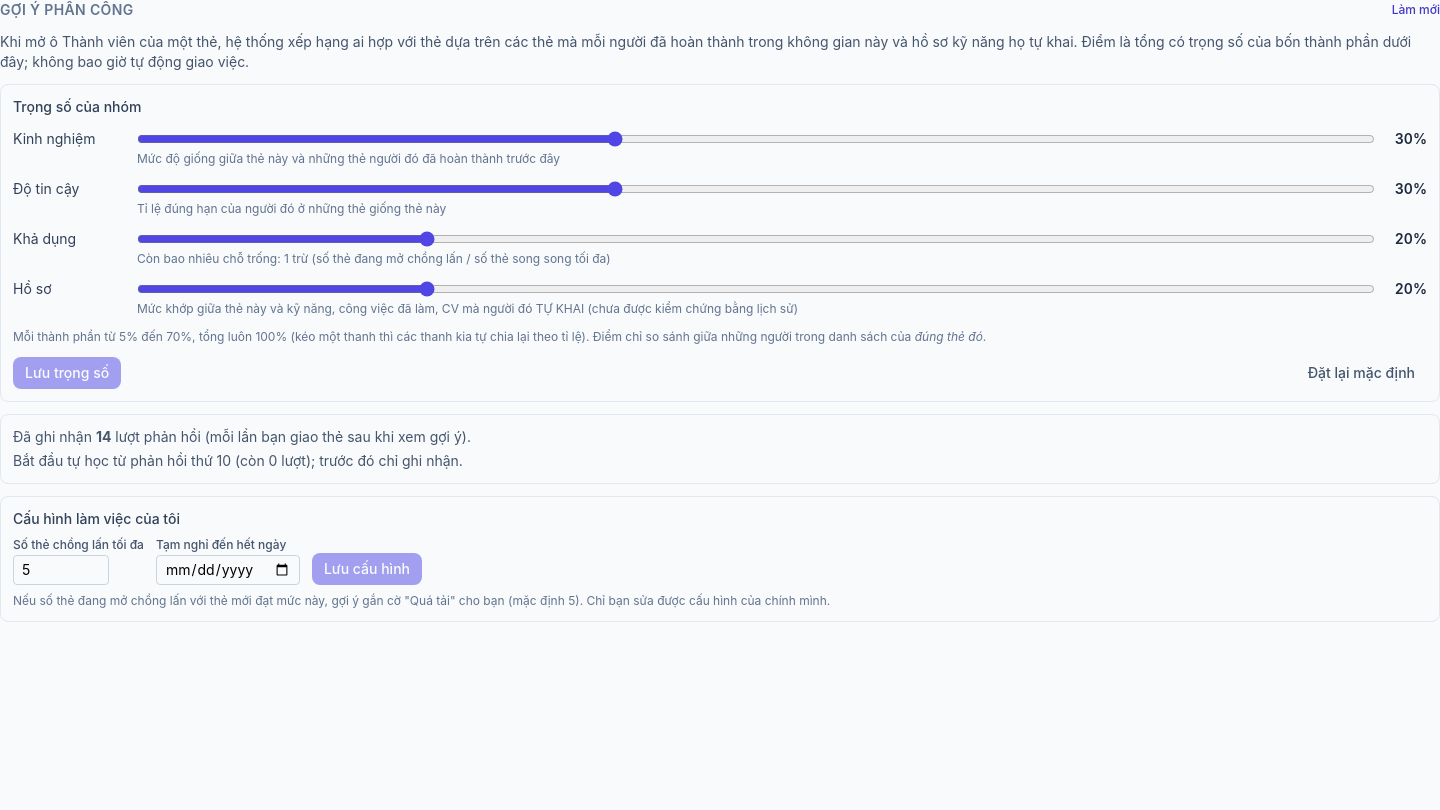
Test case: AssignWeightsPanel - đặt lại mặc định › bấm -> hộp xác nhận (chưa gọi API); "Đặt lại" -> resetAssignWeights, hiện giá trị mới; "Huỷ" thì không gọi
Expected: the text "Trọng số của nhóm" is shown, top-left (13, 98), bottom-right (141, 115)
Click the button "Đặt lại mặc định" at (1361, 373), box top-left (1296, 357), bottom-right (1427, 389)
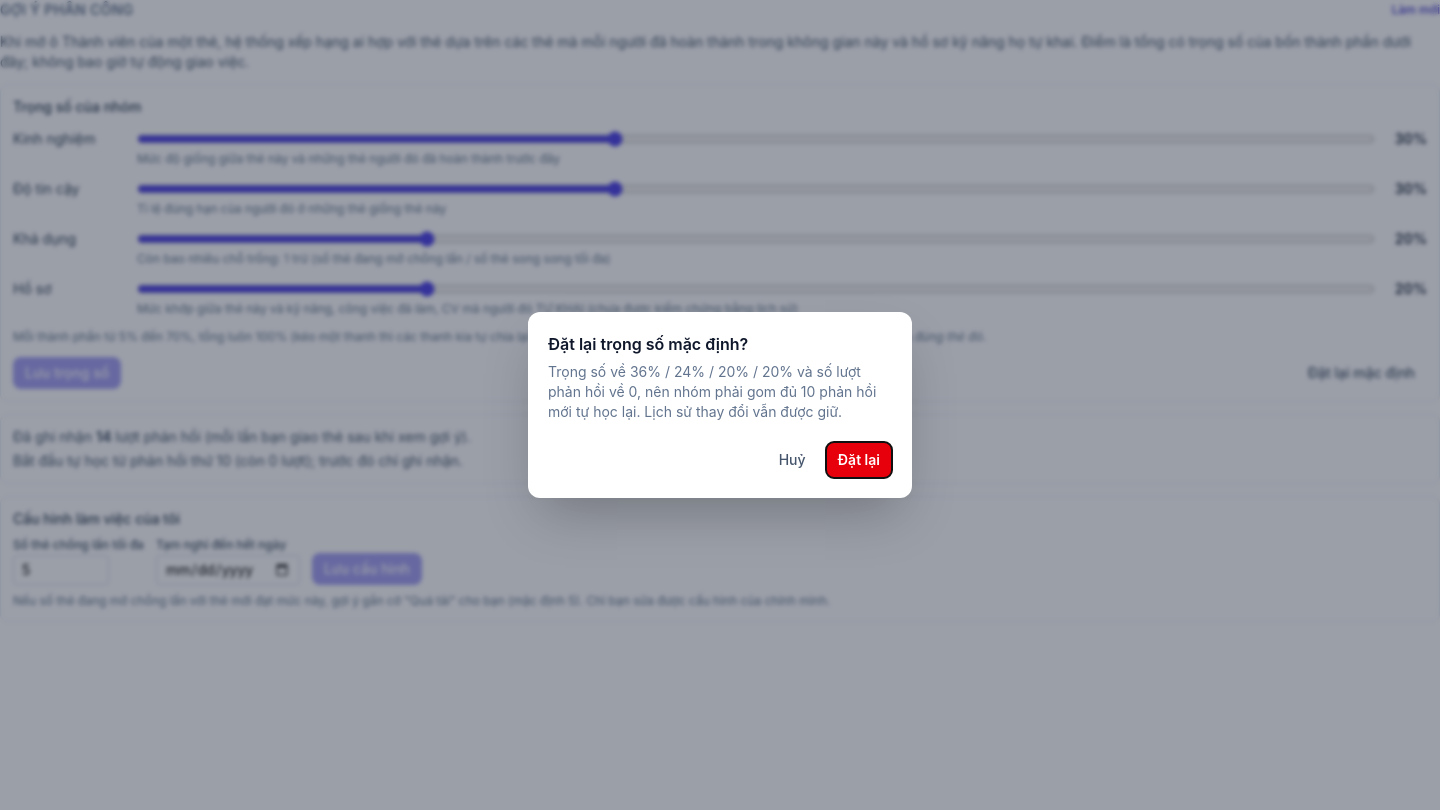
Expected: the dialog shows "Trọng số về 36% / 24% / 20% / 20% và số lượt phản hồi về 0", top-left (548, 363), bottom-right (876, 420)
Expected: the dialog shows "gom đủ 10 phản hồi", top-left (548, 363), bottom-right (876, 420)
Click the button "Huỷ" at (792, 460), box top-left (767, 442), bottom-right (818, 478)
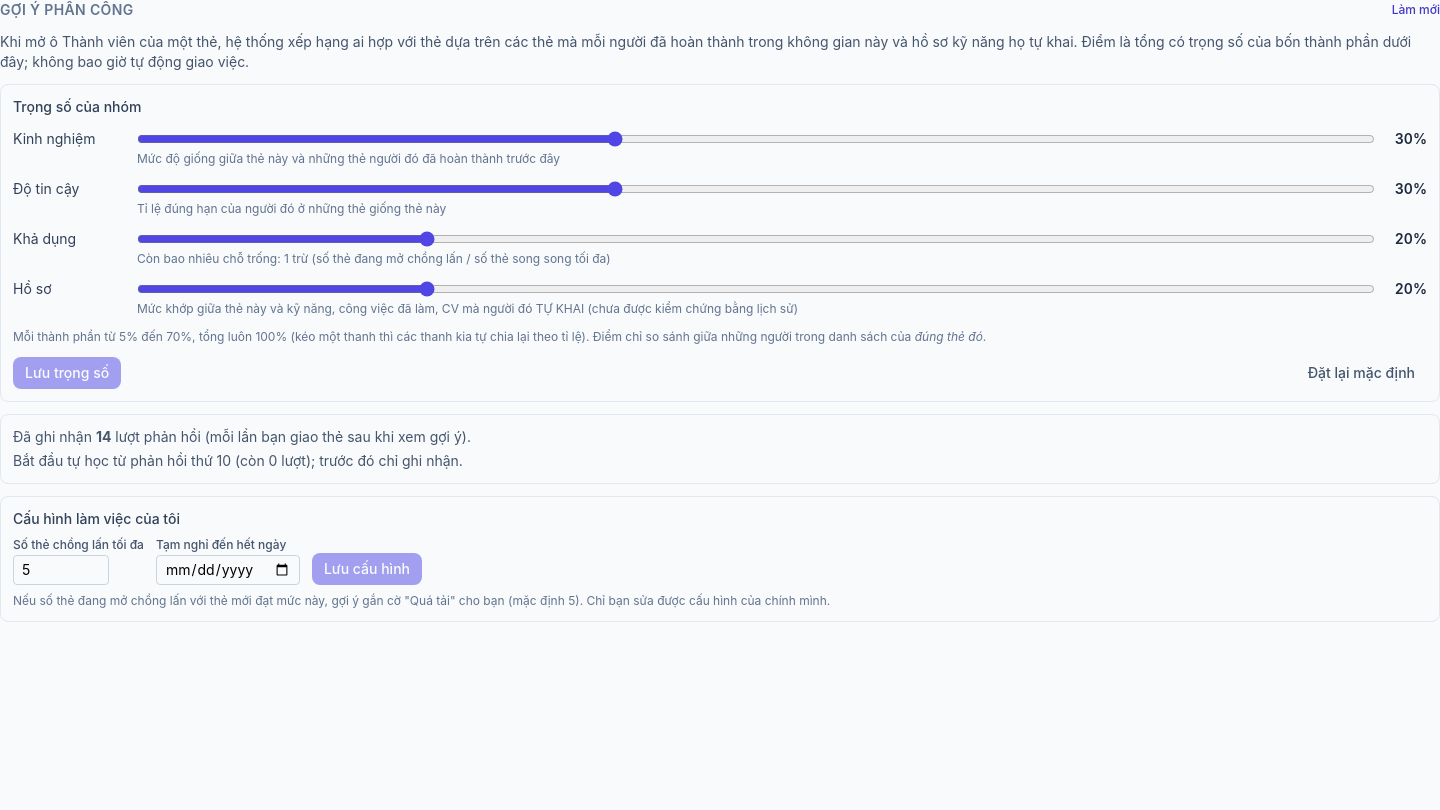
Expected: the dialog is gone
Click the button "Đặt lại mặc định" at (1361, 373), box top-left (1296, 357), bottom-right (1427, 389)
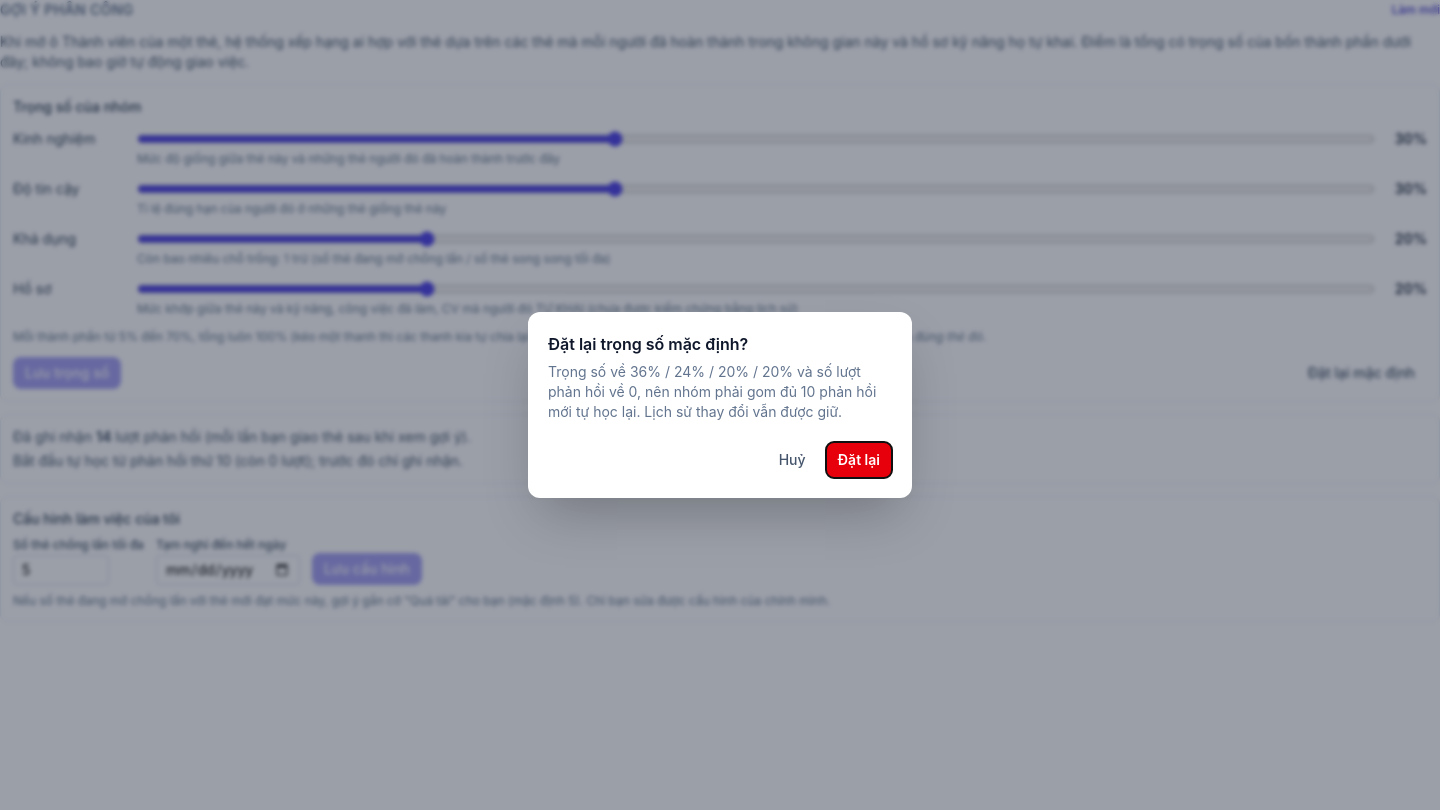
Click the button "Đặt lại" at (859, 460), box top-left (826, 442), bottom-right (892, 478)
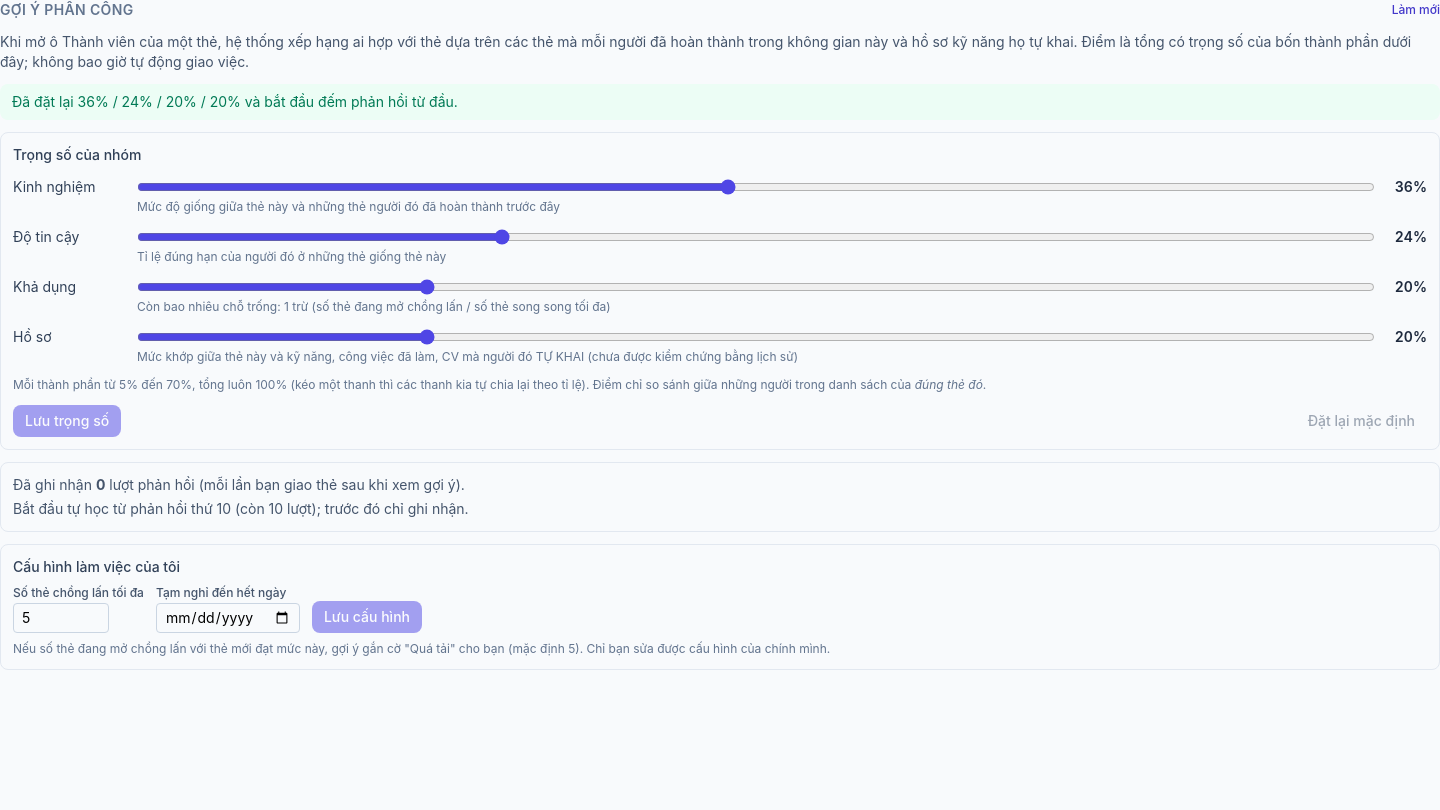
Expected: the text "Đã đặt lại 36% / 24% / 20% / 20% và bắt đầu đếm phản hồi từ đầu." is shown, top-left (0, 84), bottom-right (1439, 120)
Expected: the dialog is gone
Expected: the button "Đặt lại mặc định" is disabled, top-left (1296, 405), bottom-right (1427, 437)
